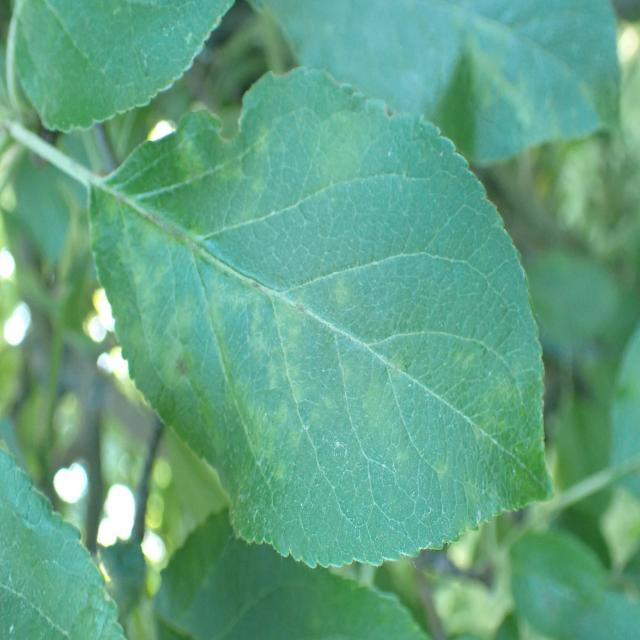scab: (80, 110, 526, 508)
